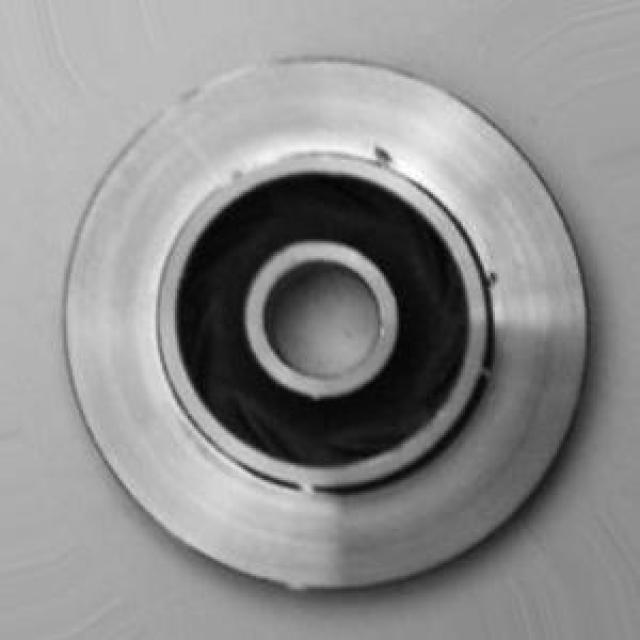Defect: (370, 139, 400, 176)
